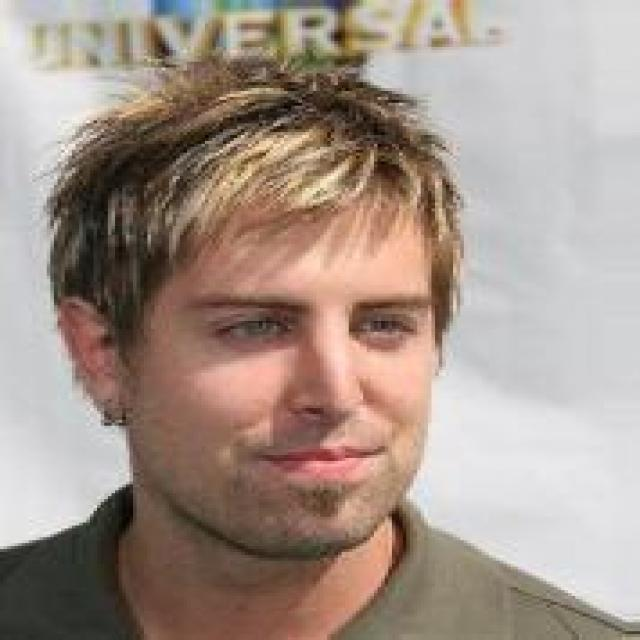nomask: (137, 91, 500, 552), (137, 97, 496, 549)
